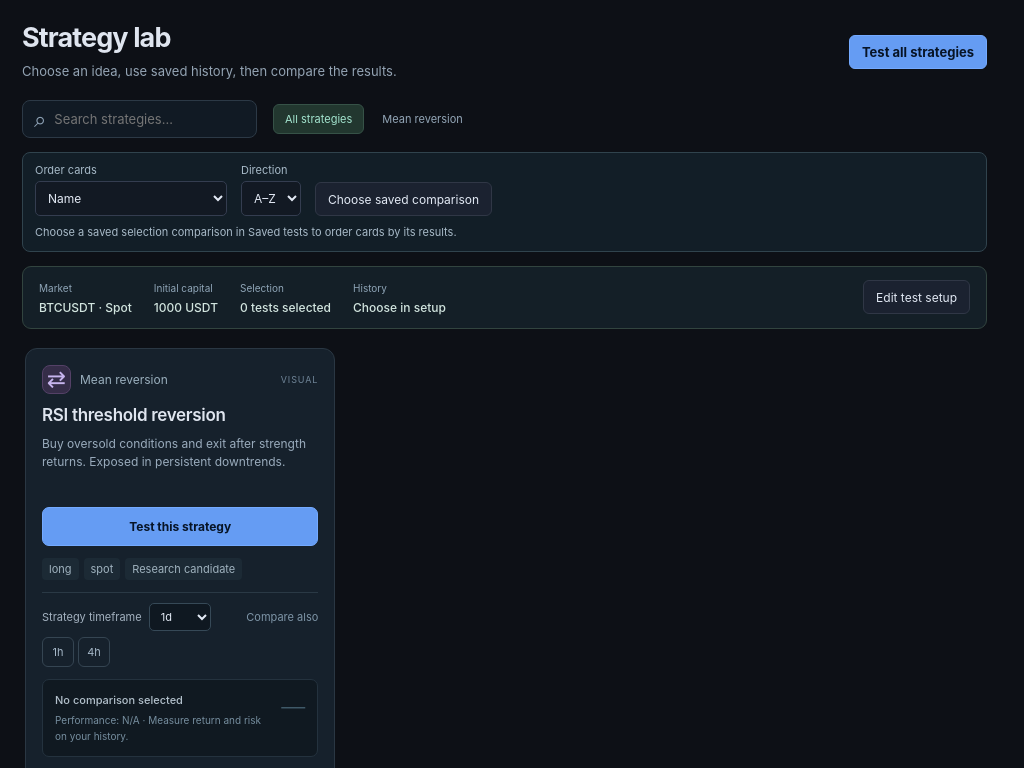
Test case: explains a selected timeframe that cannot use the source interval instead of leaving an inert test
This screenshot has width=1024, height=768.
Step 1. Select "6h" in the dropdown labelled "Strategy timeframe" → [180, 617], box [149,603,211,631]
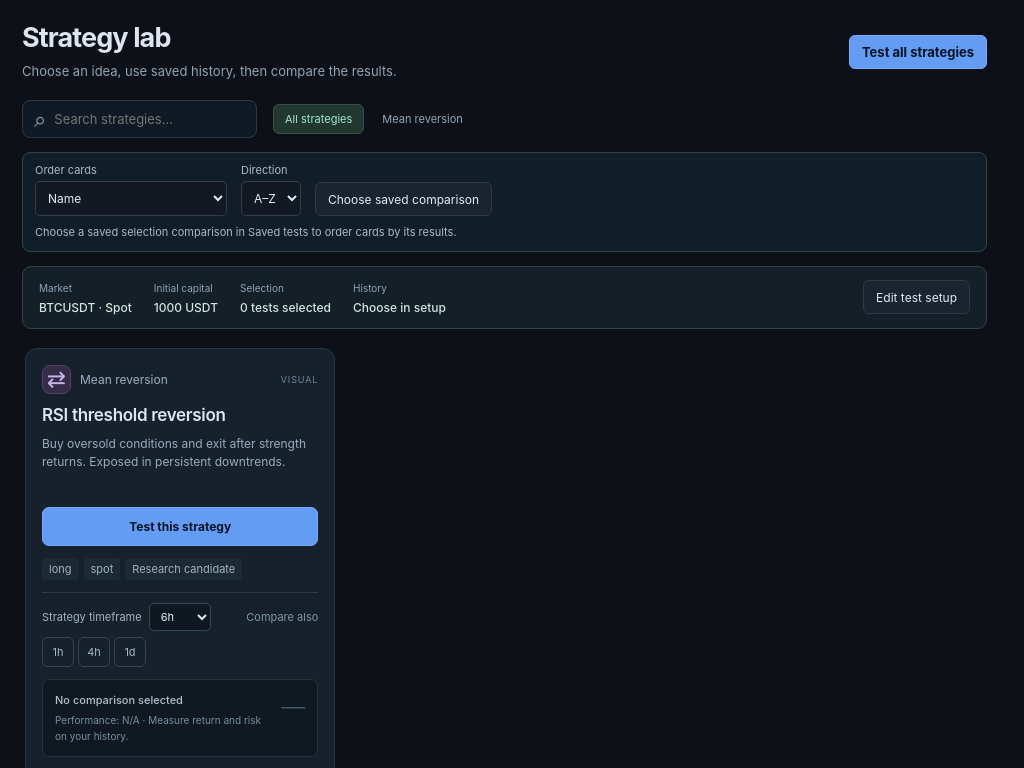
Step 2. Click the button "Test this strategy" → [180, 527], box [42,507,318,546]
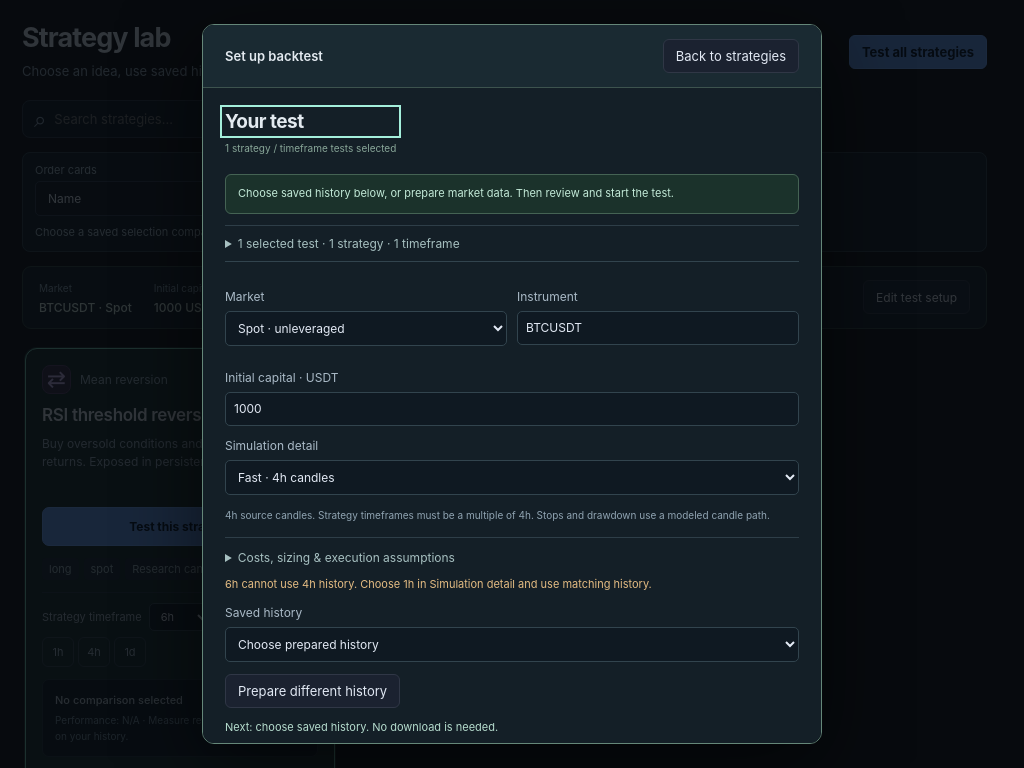
Expected: the message that starts with "cannot use" shows "6h cannot use 4h history. Choose 1h", [225,577,652,591]
Step 3. Select "BTCUSDT · spot · 4h · Synthetic · h4 · 1970-01-01T00:00 — 1970-01-03T00:00 UTC" in the dropdown named "Batch dataset" → [512, 645], box [225,627,799,662]
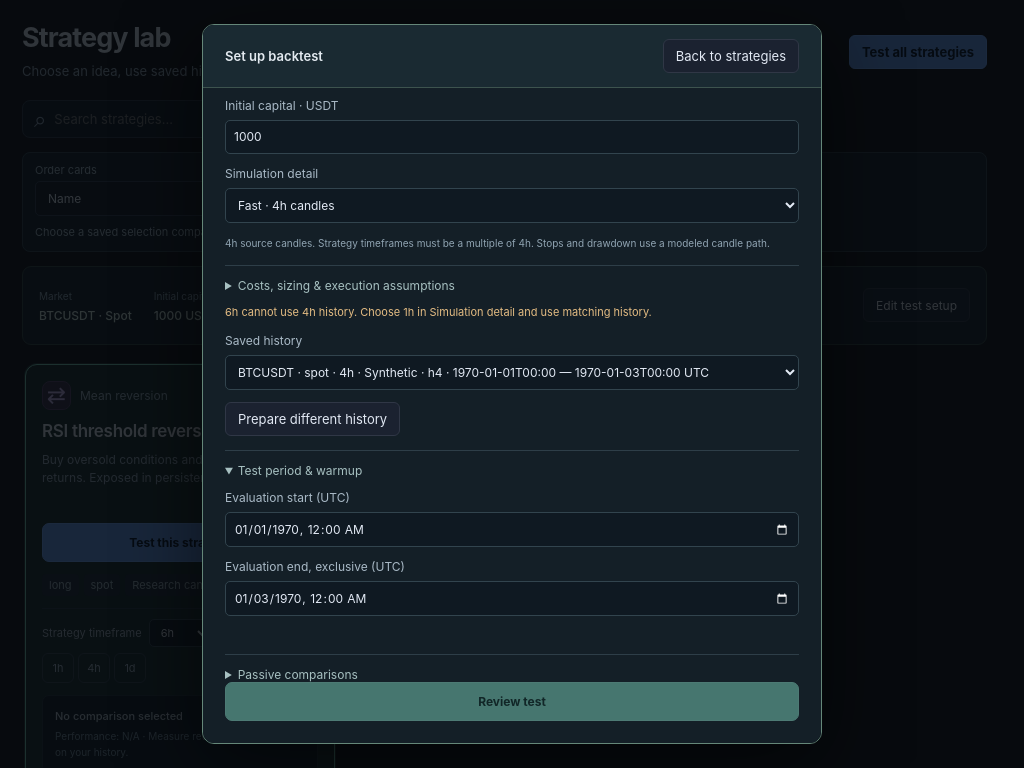
Expected: the button "Review test" is disabled, [225,682,799,721]
